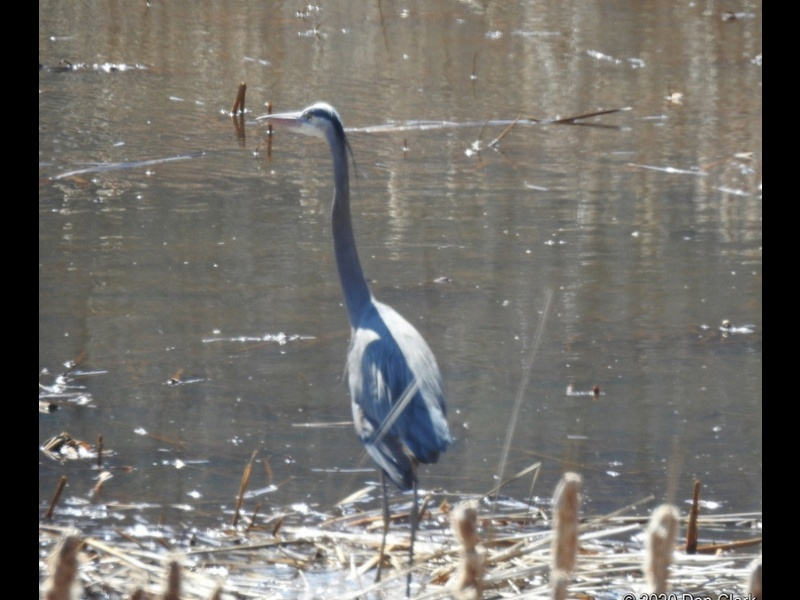heron: (253, 99, 459, 558)
